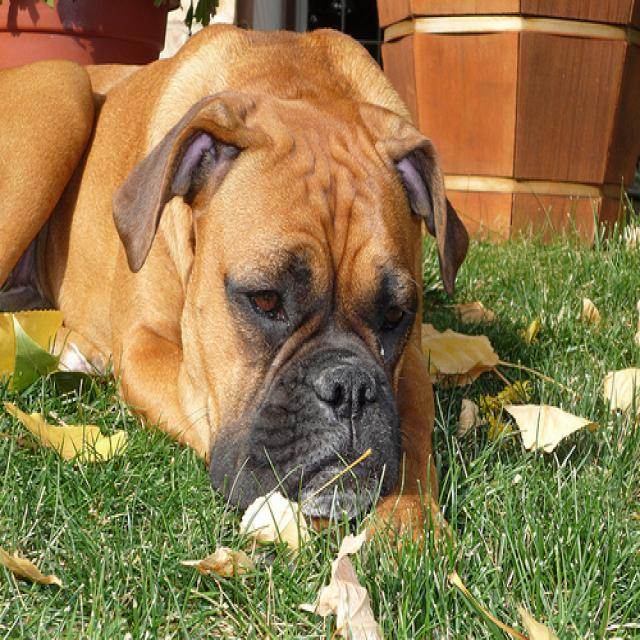dog-boxer: (1, 17, 474, 536)
